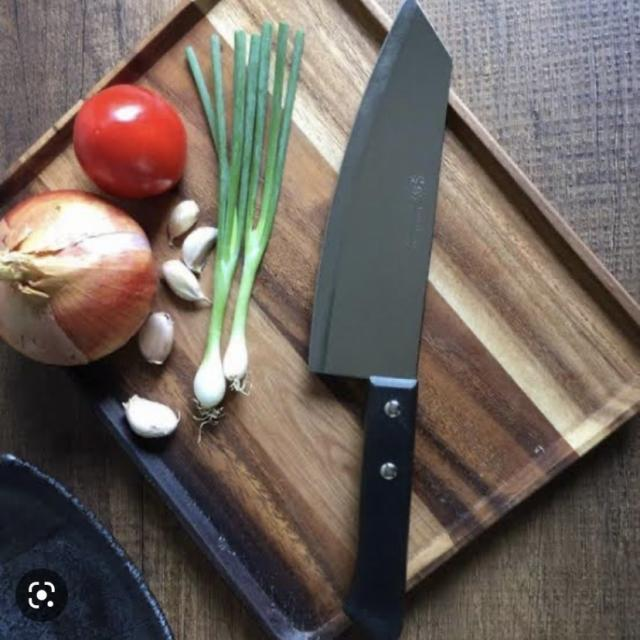Knife: (286, 0, 458, 640)
